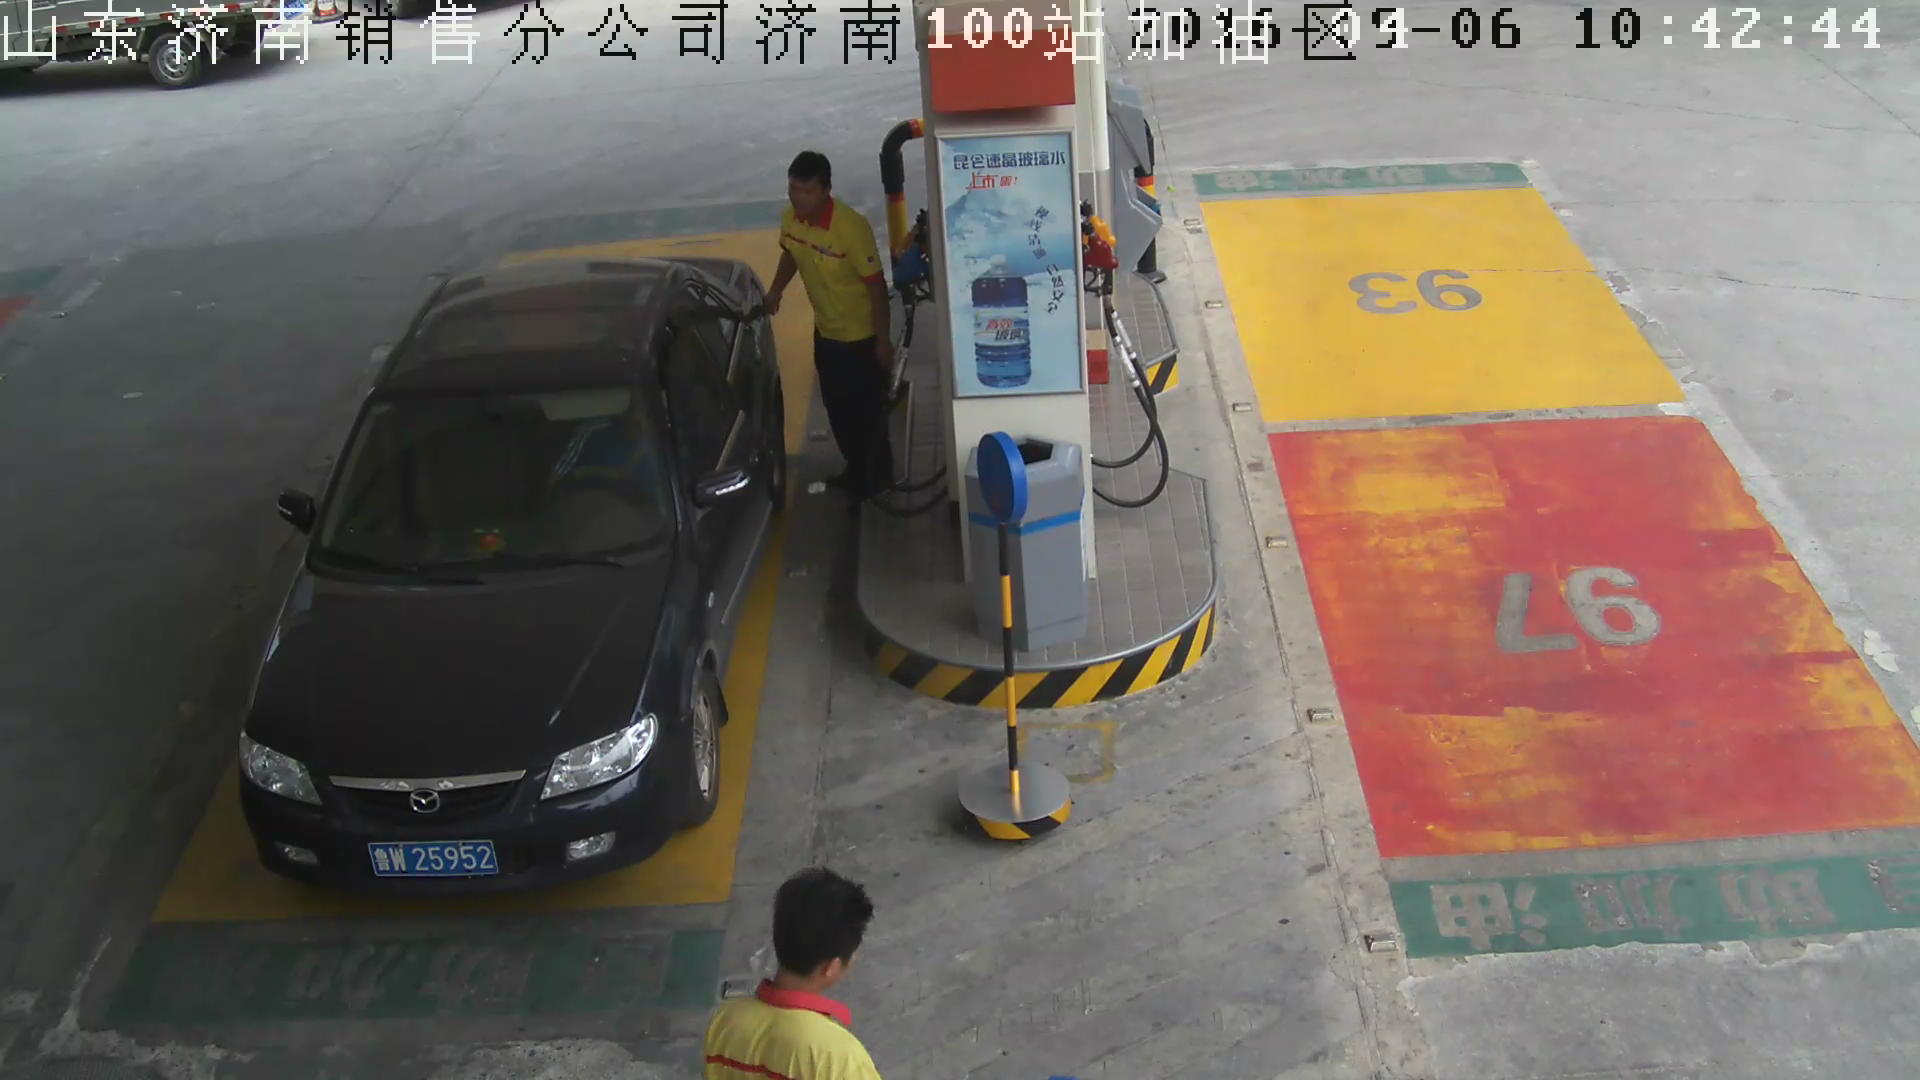blue: (367, 839, 505, 880)
